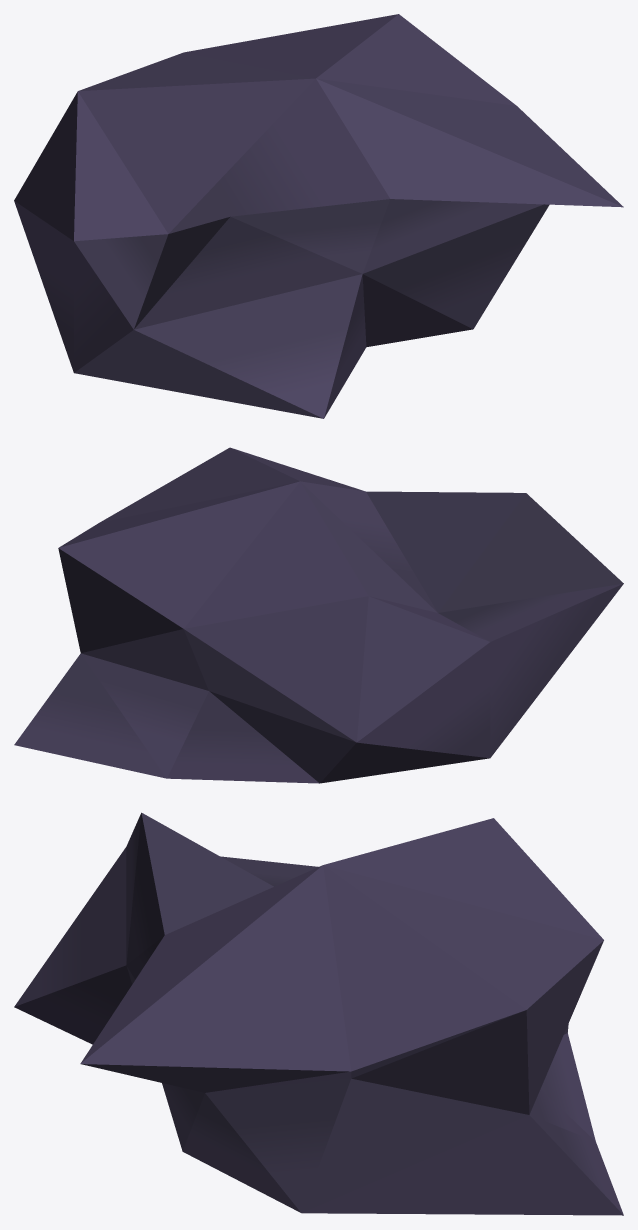
Rendered from SW_PROP_Trash_07.fbx.
3 renders of one model, top to bottom at view 1: azimuth 30°, elevation 25°; view 2: azimuth 150°, elevation 25°; view 3: azimuth 270°, elevation 25°, orthographic. The views are drawn at different scales.
Visible parts, largest first — view 1: SW_PROP_Trash_07; view 2: SW_PROP_Trash_07; view 3: SW_PROP_Trash_07.
Boxes of the visible parts, x1=… form: SW_PROP_Trash_07: x1=14, y1=14, x2=623, y2=418; SW_PROP_Trash_07: x1=14, y1=447, x2=623, y2=783; SW_PROP_Trash_07: x1=14, y1=812, x2=623, y2=1215.
Bounding box in the file's own units: 16.97 × 8.25 × 17.23.
